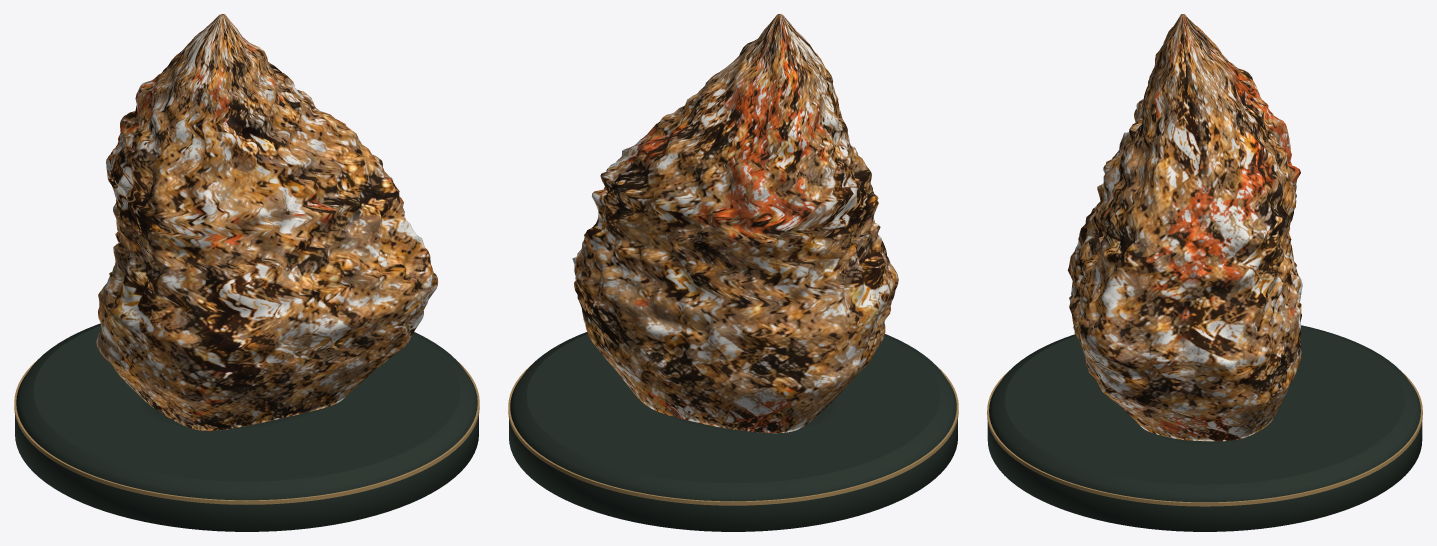
Rendered from lingstone-concept-06-v192-451902295f1f.glb.
The picture shows the model from 3 angles, left to right: view 1: azimuth 30°, elevation 25°; view 2: azimuth 150°, elevation 25°; view 3: azimuth 270°, elevation 25°; orthographic projection. The views are drawn at different scales.
Parts seen in each view (by area): view 1: XY-CONCEPT-006 concept stone, Centered beveled display plinth, Champagne gold edge; view 2: XY-CONCEPT-006 concept stone, Centered beveled display plinth, Champagne gold edge; view 3: XY-CONCEPT-006 concept stone, Centered beveled display plinth, Champagne gold edge.
Boxes of the visible parts, x1,y1,x2,y2 form: XY-CONCEPT-006 concept stone: [96, 14, 438, 430]; Centered beveled display plinth: [15, 323, 478, 531]; Champagne gold edge: [14, 361, 479, 504]; XY-CONCEPT-006 concept stone: [572, 14, 898, 433]; Centered beveled display plinth: [509, 332, 957, 531]; Champagne gold edge: [508, 365, 958, 505]; XY-CONCEPT-006 concept stone: [1067, 14, 1302, 441]; Centered beveled display plinth: [987, 325, 1422, 531]; Champagne gold edge: [987, 371, 1422, 506].
Bounding box in the file's own units: 1.74 × 1.82 × 1.74.
4 materials, 1 textured.
